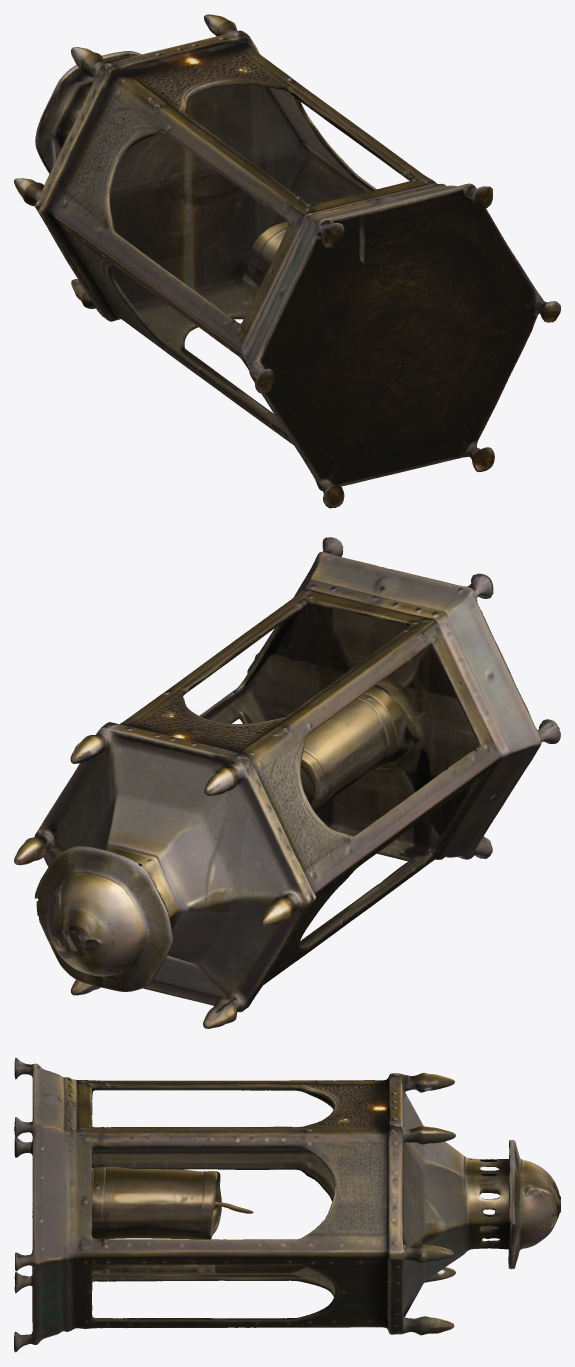
Rendered from lantern2.glb.
3 views of the same model, one above another, from view 1: azimuth 30°, elevation 25°; view 2: azimuth 150°, elevation 25°; view 3: azimuth 270°, elevation 25° (orthographic). The views are drawn at different scales.
Visible parts, largest first — view 1: Mesh_0; view 2: Mesh_0; view 3: Mesh_0.
Part boxes in pixels (box(x1,y1,x2,y2)): Mesh_0: box(14, 14, 560, 508); Mesh_0: box(14, 537, 560, 1028); Mesh_0: box(14, 1057, 560, 1352).
Size of the model in its own units: 0.8905 by 0.7929 by 1.69.
1 material, 1 textured.
